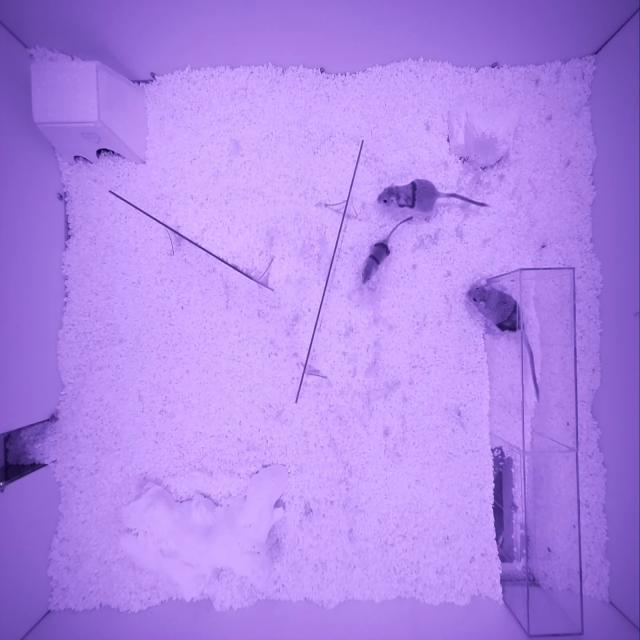adult_back: (468, 284, 525, 332)
adult_front: (377, 179, 438, 212)
pup_h_stripe: (361, 240, 390, 284)
